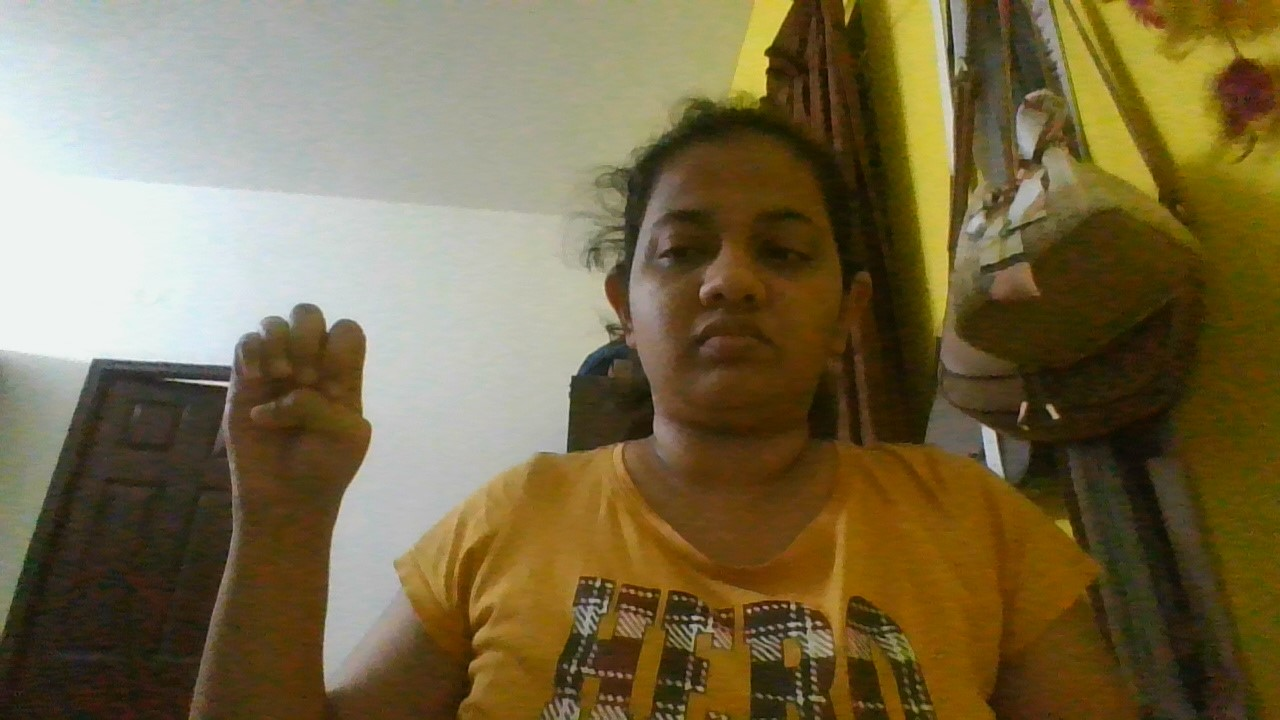e: (205, 301, 389, 522)
